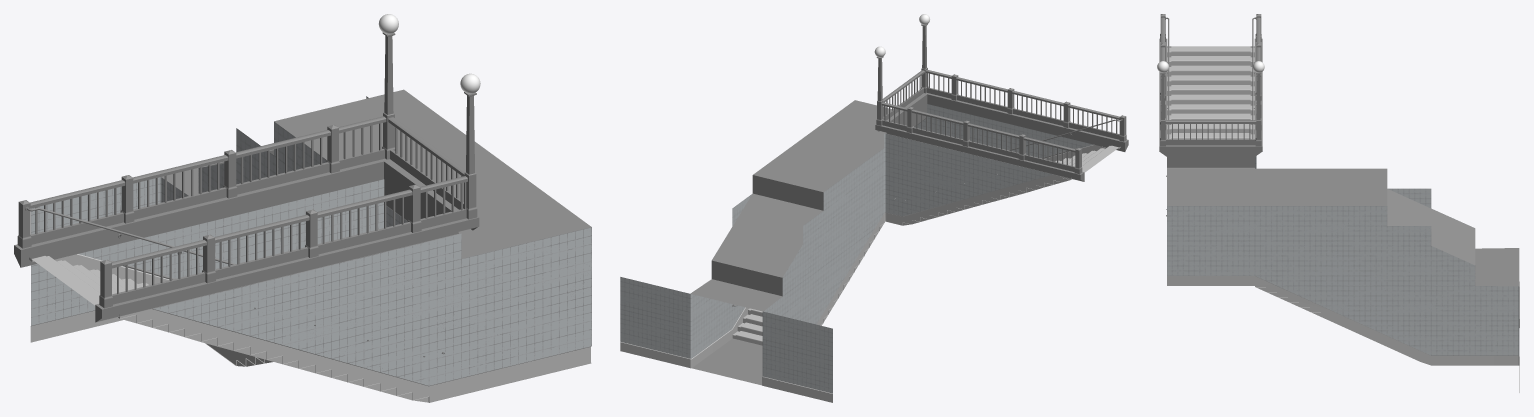
The model's file is subway_entrance_b.fbx.
The picture shows the model from 3 angles, left to right: view 1: azimuth 30°, elevation 25°; view 2: azimuth 150°, elevation 25°; view 3: azimuth 270°, elevation 25°; orthographic projection. The views are drawn at different scales.
Parts seen in each view (by area): view 1: subway_entrance_b; view 2: subway_entrance_b; view 3: subway_entrance_b.
Part boxes in pixels (bbox=[...]): subway_entrance_b: bbox=[14, 14, 591, 402]; subway_entrance_b: bbox=[620, 14, 1128, 402]; subway_entrance_b: bbox=[1157, 14, 1519, 392].
Bounding box in the file's own units: 1925 × 1344 × 1646.
